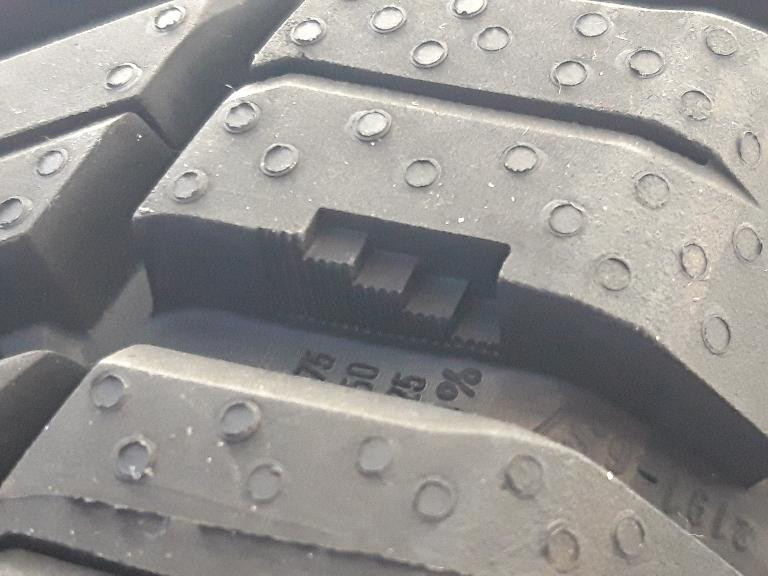temoin:100: (252, 196, 523, 373)
